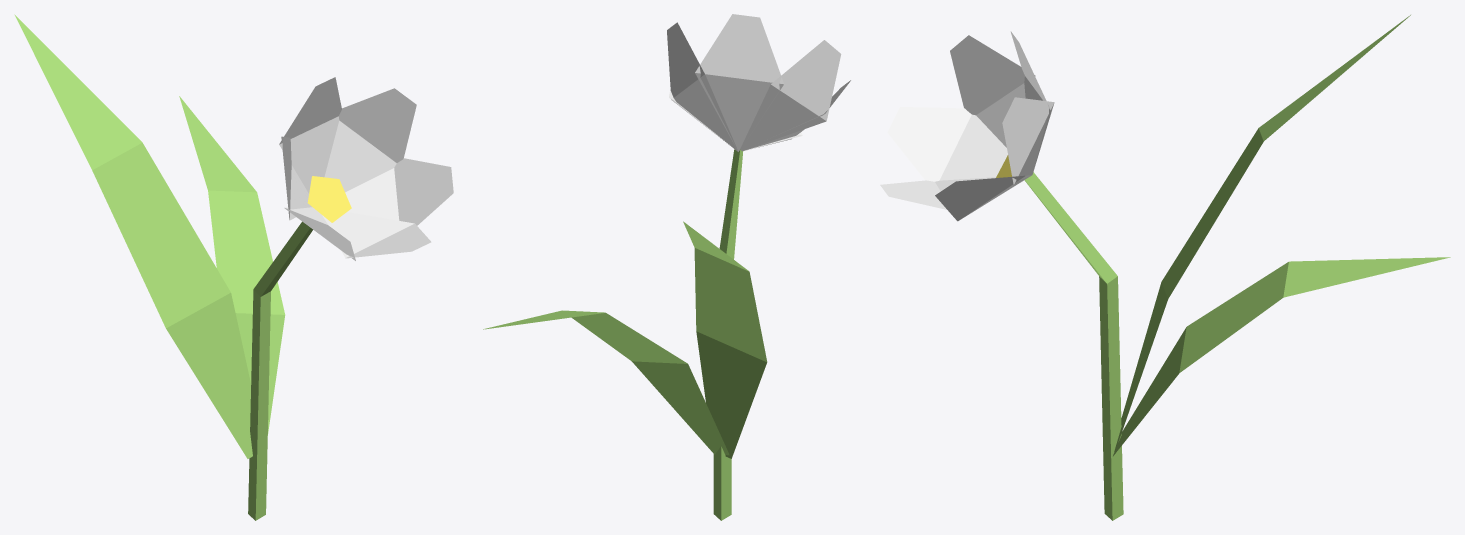
The model's file is Flower_e_TwoS_07.fbx.
The picture shows the model from 3 angles, left to right: view 1: azimuth 30°, elevation 25°; view 2: azimuth 150°, elevation 25°; view 3: azimuth 270°, elevation 25°; orthographic projection. The views are drawn at different scales.
Visible parts, largest first — view 1: Flower_e_TwoS_07; view 2: Flower_e_TwoS_07; view 3: Flower_e_TwoS_07.
Part boxes in pixels (bbox=[...]): Flower_e_TwoS_07: bbox=[14, 14, 453, 520]; Flower_e_TwoS_07: bbox=[483, 14, 850, 520]; Flower_e_TwoS_07: bbox=[880, 15, 1450, 520].
Size of the model in its own units: 0.1975 by 0.3943 by 0.4149.
